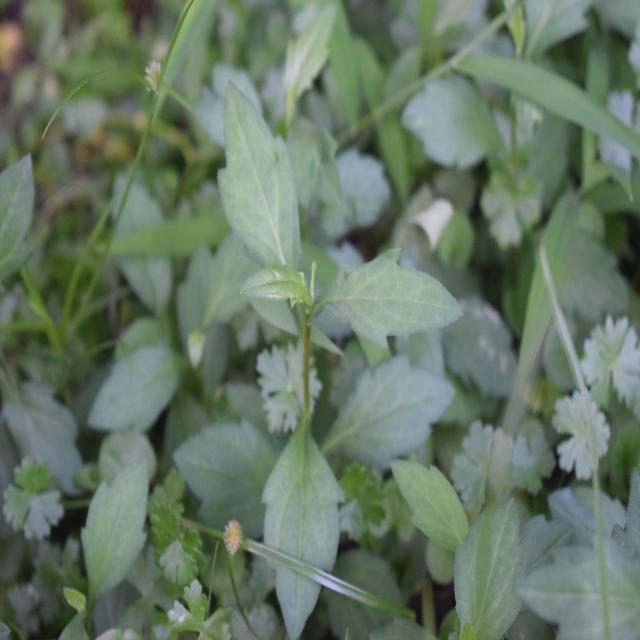Indian aster: (222, 75, 434, 540)
